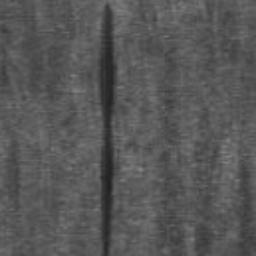Scratches: (98, 3, 116, 256)
